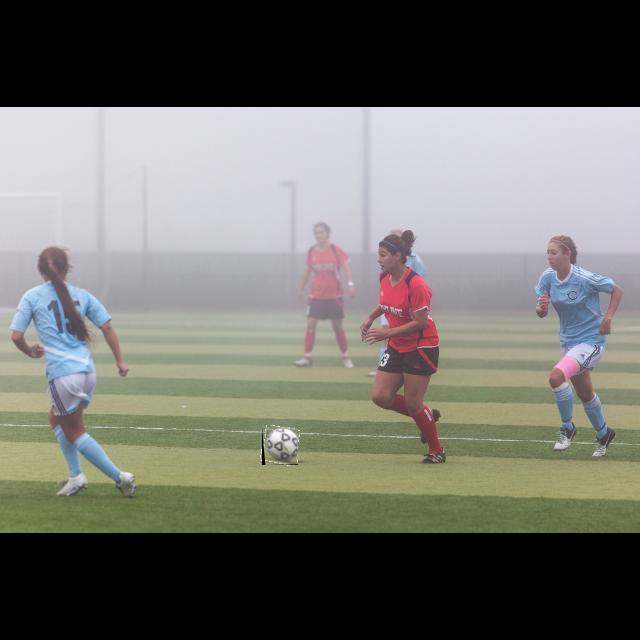Football: (262, 427, 298, 465)
